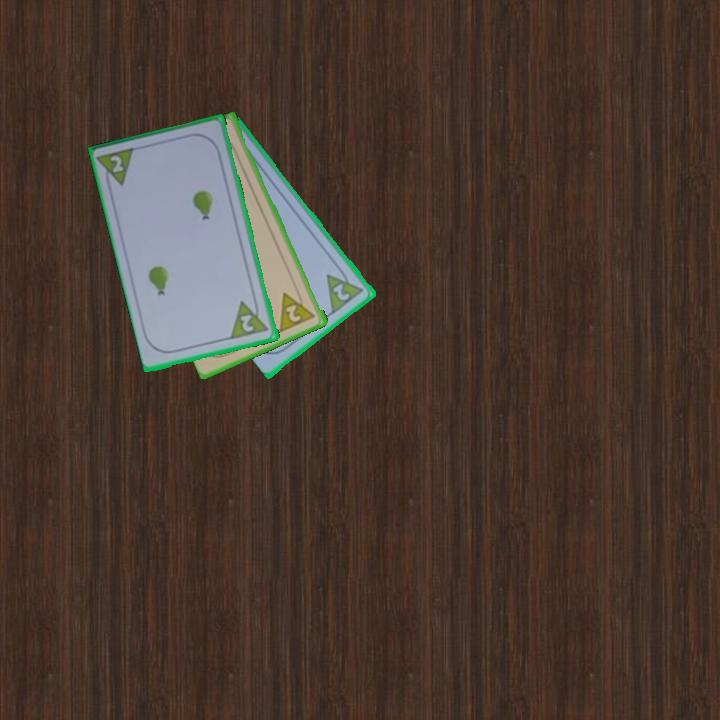2p: (323, 263, 367, 316), (95, 144, 139, 193), (282, 301, 304, 325), (237, 311, 257, 335)
